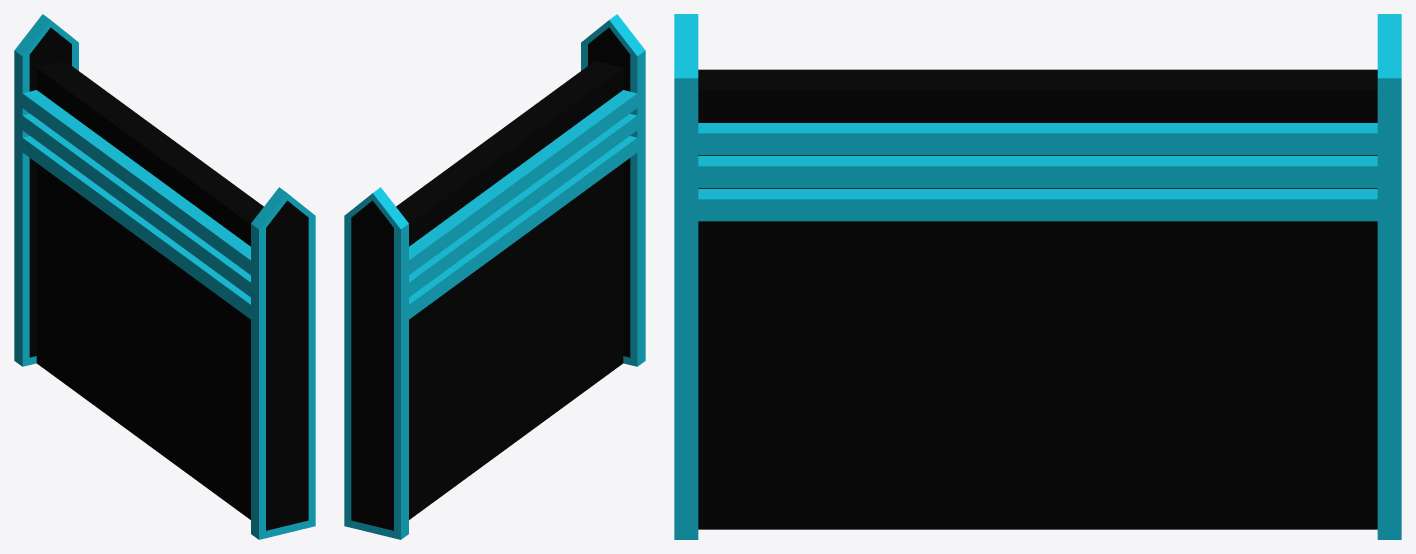
Rendered from StraightWall.glb.
The picture shows the model from 3 angles, left to right: view 1: azimuth 30°, elevation 25°; view 2: azimuth 150°, elevation 25°; view 3: azimuth 270°, elevation 25°; orthographic projection. The views are drawn at different scales.
Parts seen in each view (by area): view 1: StraightWall, Divider.005, Cube.056, Cube.058, Cube.057, Cube.031, Cube.026, Divider.008, Cube.032, Cube.033, Cube.028, Cube.030; view 2: StraightWall, Divider.008, Cube.056, Cube.058, Cube.057, Cube.026, Cube.031, Divider.005, Cube.027, Cube.028, Cube.033, Cube.025; view 3: StraightWall, Cube.056, Cube.057, Cube.058, Cube.027, Cube.032, Cube.029, Cube.034.
Boxes of the visible parts, <box> form: StraightWall: <box>36,61,263,519</box>; Divider.005: <box>266,200,308,530</box>; Cube.056: <box>22,90,250,274</box>; Cube.058: <box>22,136,250,319</box>; Cube.057: <box>22,114,250,297</box>; Cube.031: <box>251,224,265,532</box>; Cube.026: <box>14,50,29,359</box>; Divider.008: <box>29,27,71,357</box>; Cube.032: <box>308,216,315,520</box>; Cube.033: <box>251,187,287,229</box>; Cube.028: <box>14,14,50,56</box>; Cube.030: <box>251,519,315,539</box>; StraightWall: <box>396,61,623,519</box>; Divider.008: <box>351,200,393,530</box>; Cube.056: <box>409,90,637,274</box>; Cube.058: <box>409,136,637,319</box>; Cube.057: <box>409,114,637,297</box>; Cube.026: <box>394,224,408,532</box>; Cube.031: <box>630,50,645,359</box>; Divider.005: <box>588,27,630,357</box>; Cube.027: <box>344,216,351,520</box>; Cube.028: <box>372,187,408,229</box>; Cube.033: <box>609,14,645,56</box>; Cube.025: <box>344,519,408,539</box>; StraightWall: <box>698,69,1377,529</box>; Cube.056: <box>698,123,1377,155</box>; Cube.057: <box>698,156,1377,188</box>; Cube.058: <box>698,189,1377,221</box>; Cube.027: <box>1377,78,1401,528</box>; Cube.032: <box>674,78,698,528</box>; Cube.029: <box>1377,14,1401,78</box>; Cube.034: <box>674,14,698,78</box>.
Bounding box in the file's own units: 0.8 × 4.6 × 6.
